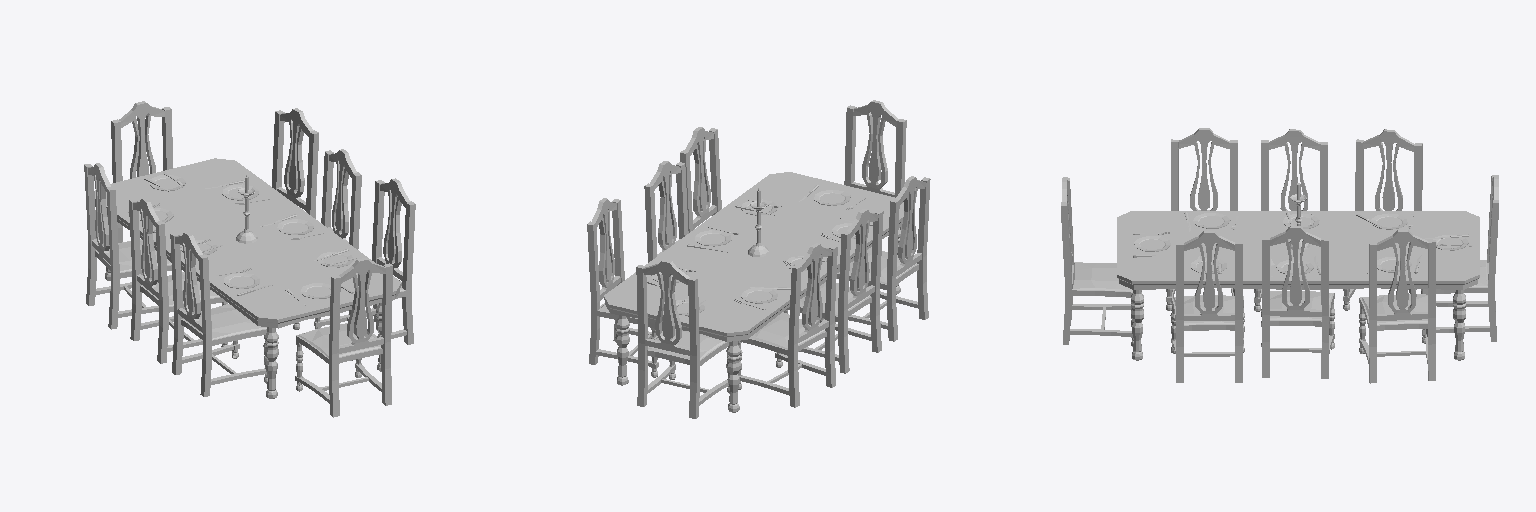
Rendered from dining-place.obj.
3 views of the same model, side by side, from view 1: azimuth 30°, elevation 25°; view 2: azimuth 150°, elevation 25°; view 3: azimuth 270°, elevation 25° (orthographic).
Parts seen in each view (by area): view 1: Table, Chair, Chair.007, Chair.006, Chair.005, Chair.001, Chair.003, Chair.004, Chair.002, CandleStick.001; view 2: Table, Chair.004, Chair.005, Chair.006, Chair.007, Chair.003, Chair, Chair.002, Chair.001, CandleStick.001; view 3: Table, Chair.003, Chair.001, Chair.002, Chair, Chair.005, Chair.007, Chair.006, Chair.004.
Boxes of the visible parts, x1,y1,x2,y2 form: Table: [95, 158, 401, 398]; Chair: [295, 258, 392, 417]; Chair.007: [170, 231, 267, 396]; Chair.006: [129, 198, 227, 363]; Chair.005: [84, 163, 171, 329]; Chair.001: [314, 178, 415, 360]; Chair.003: [272, 108, 318, 218]; Chair.004: [111, 101, 172, 242]; Chair.002: [293, 149, 361, 329]; CandleStick.001: [236, 175, 257, 243]; Table: [604, 172, 903, 412]; Chair.004: [636, 259, 729, 418]; Chair.005: [738, 243, 837, 407]; Chair.006: [784, 209, 883, 373]; Chair.007: [835, 176, 930, 341]; Chair.003: [587, 198, 658, 377]; Chair: [844, 100, 906, 230]; Chair.002: [644, 161, 688, 262]; Chair.001: [680, 127, 721, 232]; CandleStick.001: [748, 188, 769, 256]; Table: [1117, 211, 1479, 360]; Chair.003: [1359, 230, 1435, 383]; Chair.001: [1170, 231, 1244, 382]; Chair.002: [1261, 226, 1334, 378]; Chair: [1061, 177, 1133, 346]; Chair.005: [1343, 129, 1422, 310]; Chair.007: [1166, 128, 1237, 310]; Chair.006: [1254, 129, 1327, 311]; Chair.004: [1421, 175, 1498, 343].
Size of the model in its own units: 2.22 by 1.48 by 3.9.